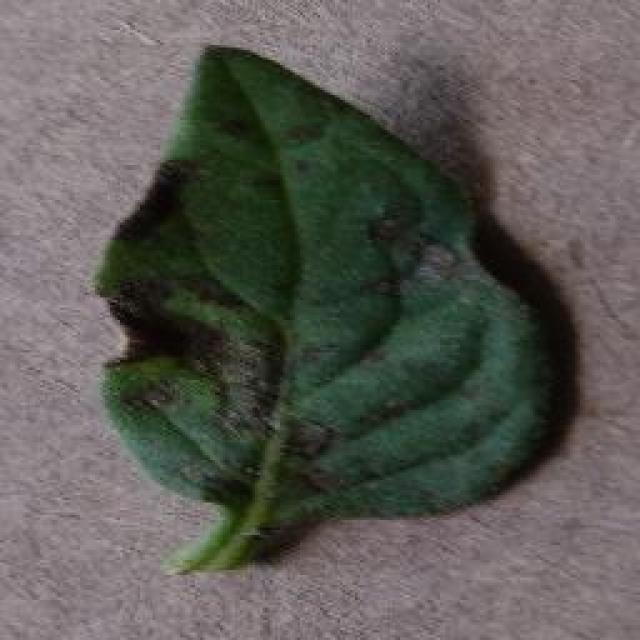Tomato Early blight leaf: (90, 38, 572, 530)
